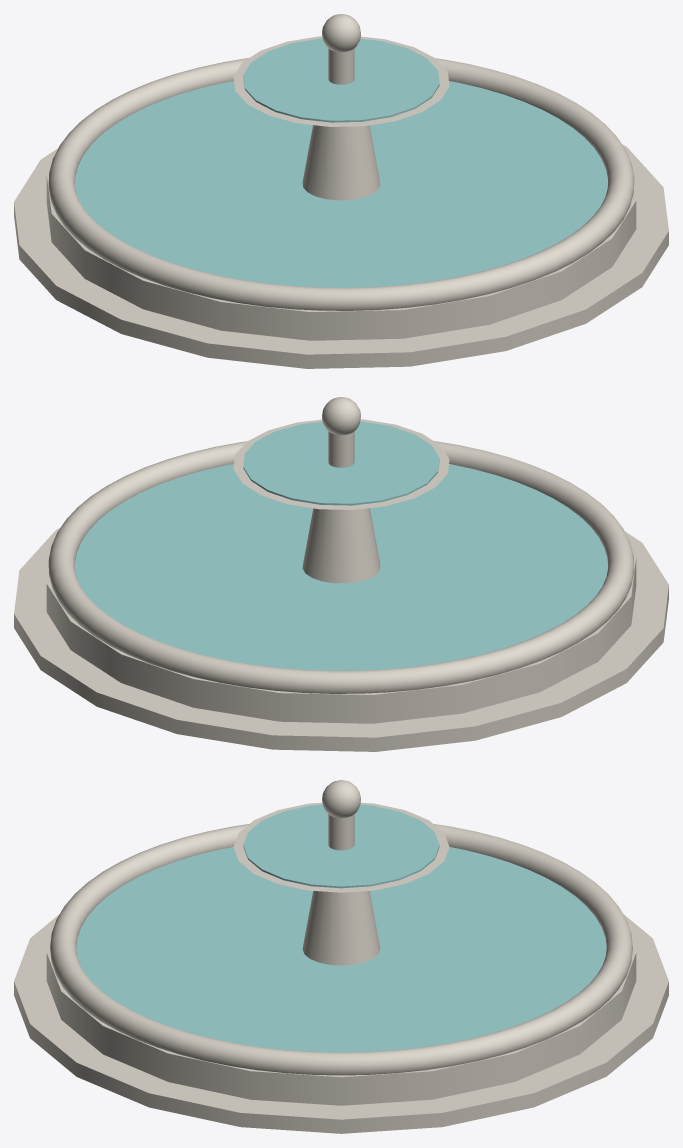
Rendered from fountain.glb.
The picture shows the model from 3 angles, top to bottom: view 1: azimuth 30°, elevation 25°; view 2: azimuth 150°, elevation 25°; view 3: azimuth 270°, elevation 25°; orthographic projection.
Parts seen in each view (by area): view 1: fountain-water, fountain-stone; view 2: fountain-water, fountain-stone; view 3: fountain-water, fountain-stone.
Part boxes in pixels (bbox=[...]): fountain-water: bbox=[75, 38, 607, 287]; fountain-stone: bbox=[14, 14, 668, 368]; fountain-water: bbox=[75, 421, 607, 670]; fountain-stone: bbox=[14, 397, 668, 751]; fountain-water: bbox=[76, 804, 606, 1052]; fountain-stone: bbox=[14, 780, 668, 1133].
Bounding box in the file's own units: 10 × 3.6 × 10.
